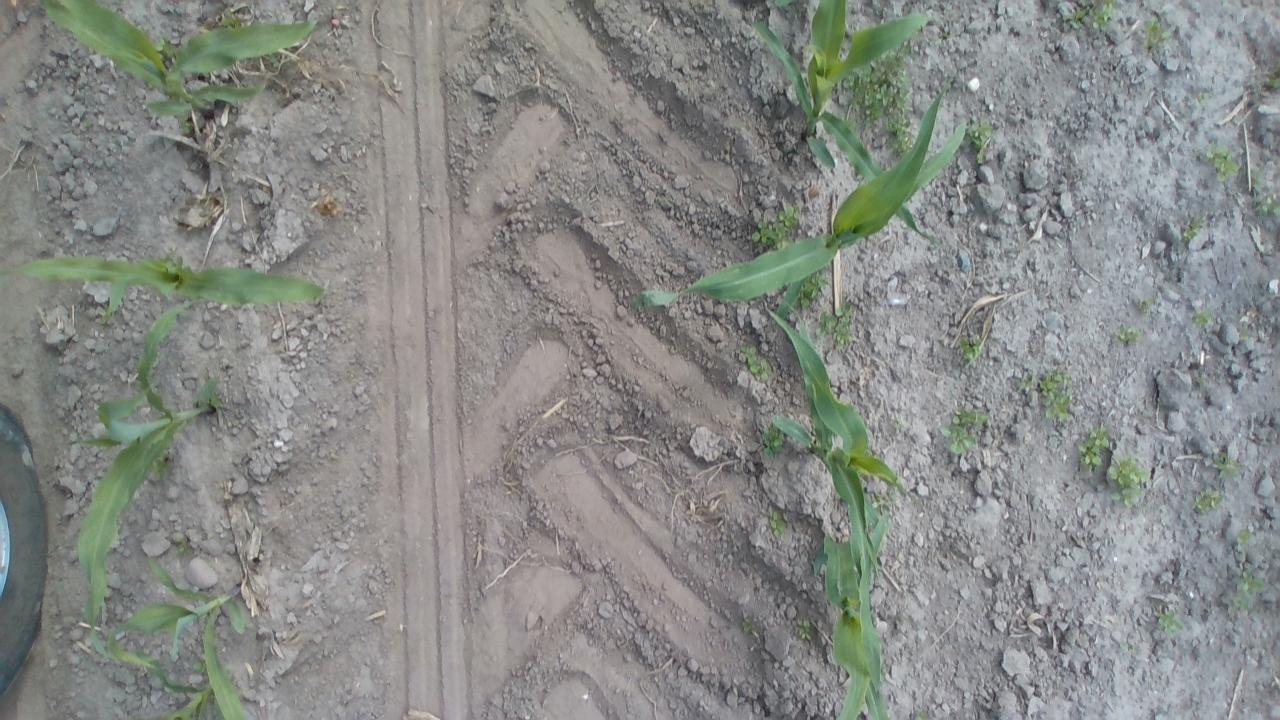Maize: (629, 80, 973, 328), (758, 304, 924, 698), (74, 290, 242, 644), (740, 2, 937, 239), (36, 1, 328, 120), (108, 548, 268, 720), (4, 236, 333, 318), (814, 501, 901, 720), (79, 632, 245, 718)
Weeds: (844, 38, 914, 152), (940, 404, 991, 458), (751, 202, 805, 252), (1104, 452, 1150, 509), (1226, 562, 1268, 618), (814, 302, 859, 352), (1037, 366, 1074, 426), (1061, 0, 1121, 34), (1076, 422, 1114, 470), (950, 328, 989, 368), (740, 344, 779, 384), (1205, 142, 1239, 186), (1249, 168, 1276, 222), (796, 272, 827, 312), (766, 506, 796, 546), (1208, 448, 1242, 483), (759, 420, 790, 457), (1188, 484, 1226, 514), (966, 118, 994, 156), (1140, 16, 1170, 50), (1154, 608, 1186, 637), (790, 616, 816, 648), (1109, 323, 1145, 345), (1182, 212, 1208, 240), (1015, 367, 1039, 396), (1191, 306, 1215, 332), (1235, 526, 1258, 552), (158, 244, 182, 266), (924, 28, 950, 48), (1132, 294, 1158, 314), (1194, 89, 1216, 111), (167, 541, 190, 562), (1261, 70, 1280, 93), (741, 614, 759, 637), (906, 706, 935, 720)
